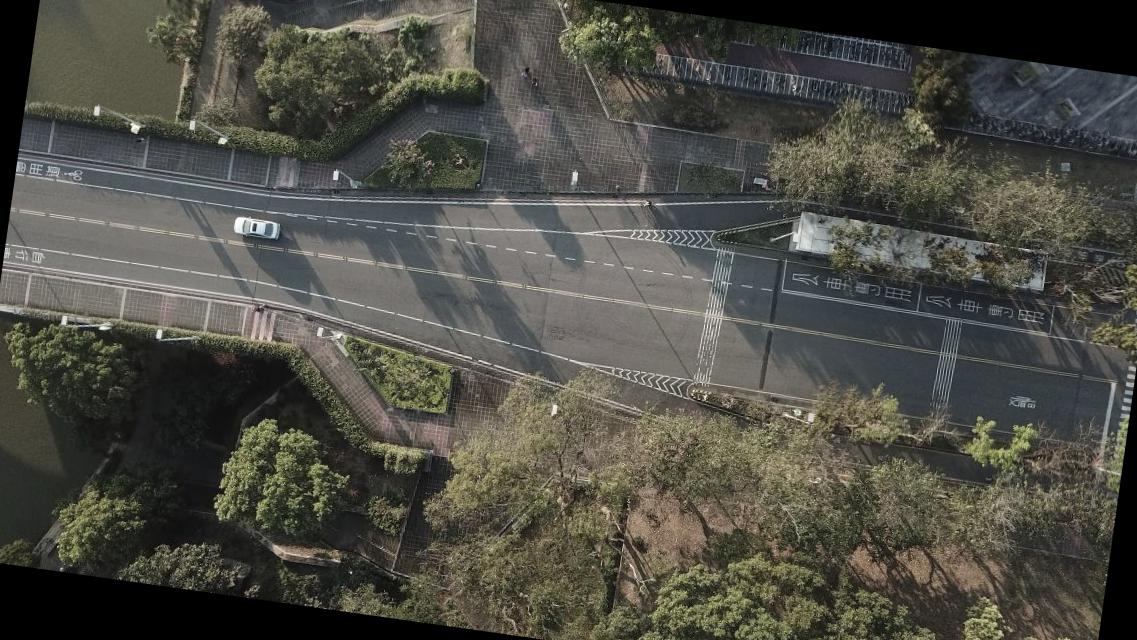vehicle: (231, 214, 282, 242)
